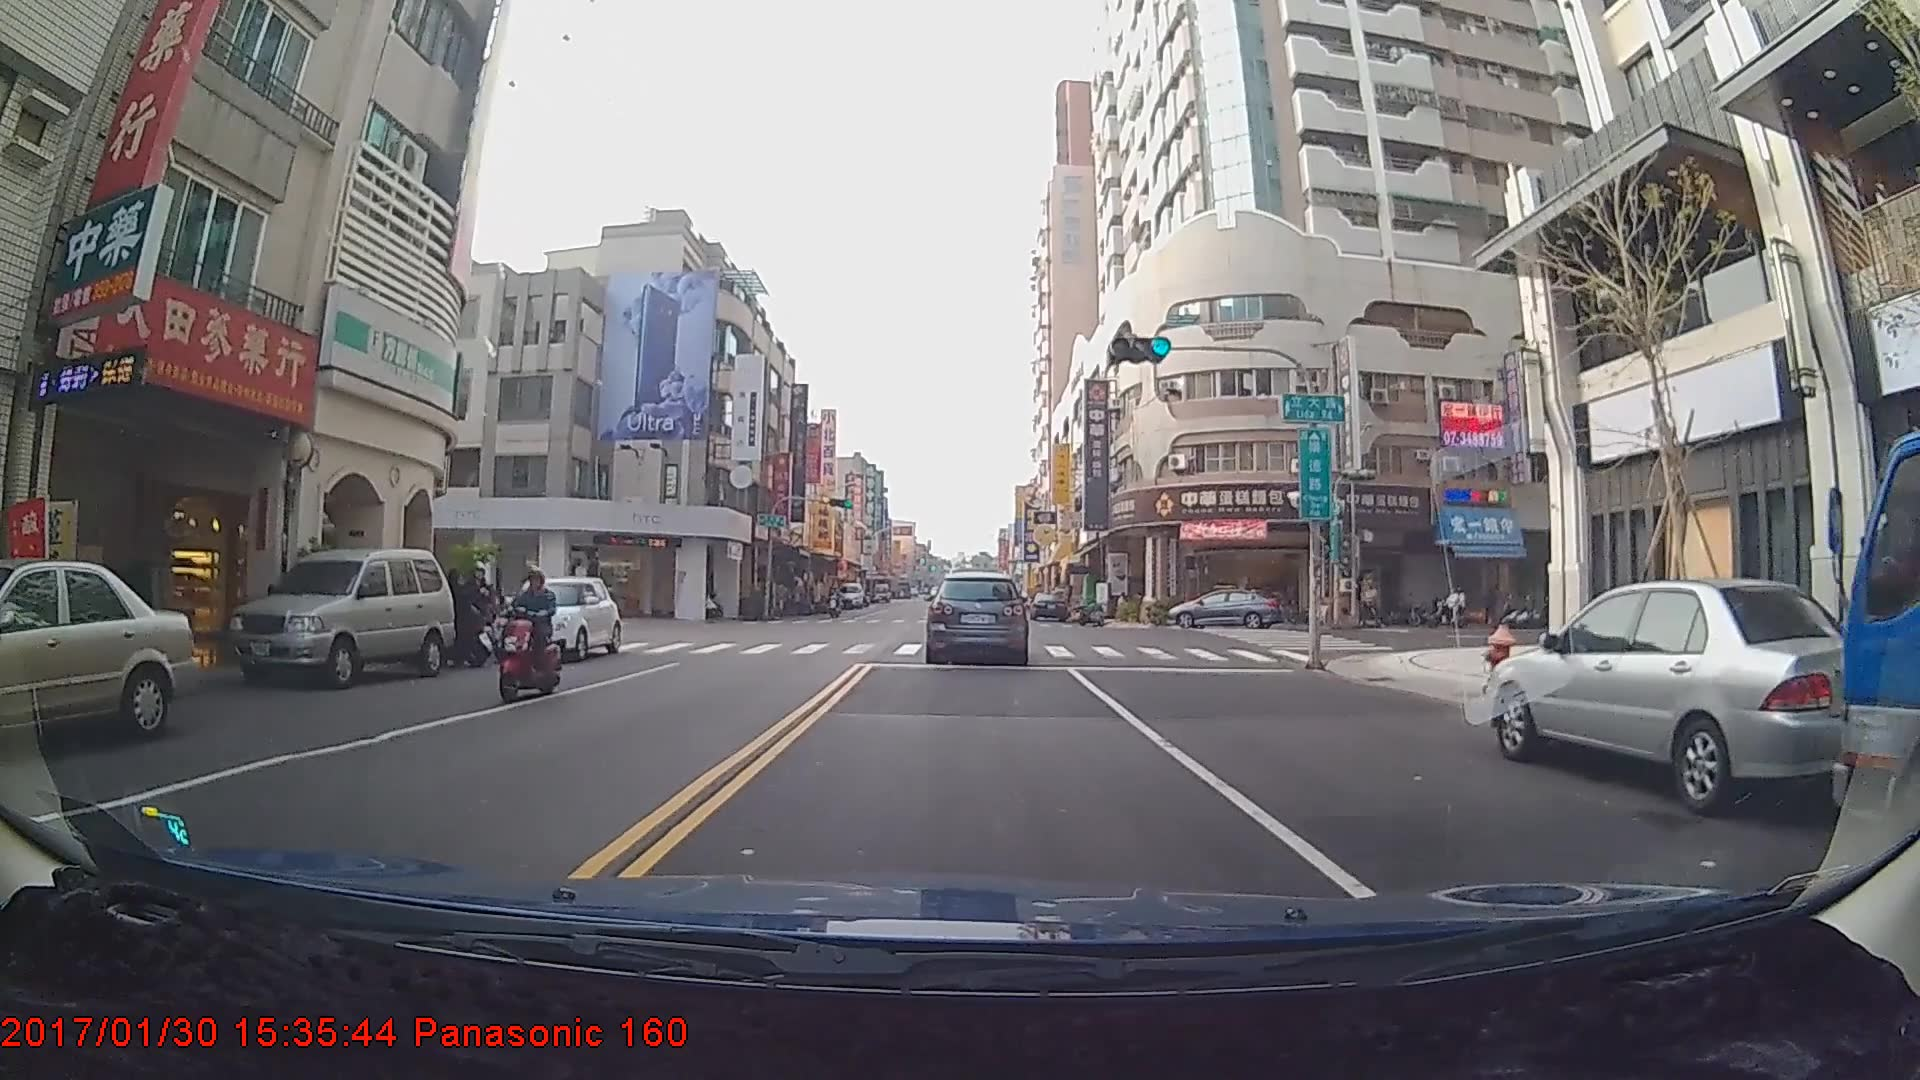rider: (491, 569, 567, 701), (1427, 582, 1475, 631), (821, 588, 847, 624)
vehicle: (1485, 577, 1889, 813), (0, 556, 202, 764), (223, 549, 455, 688), (490, 577, 616, 664), (927, 572, 1025, 662), (1167, 585, 1286, 631), (1029, 591, 1067, 619), (837, 580, 863, 608)
